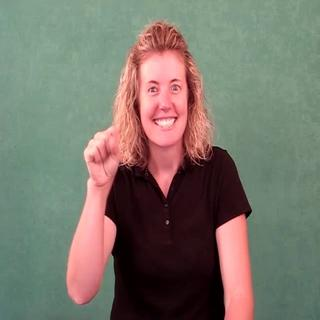yes: (77, 122, 129, 188)
